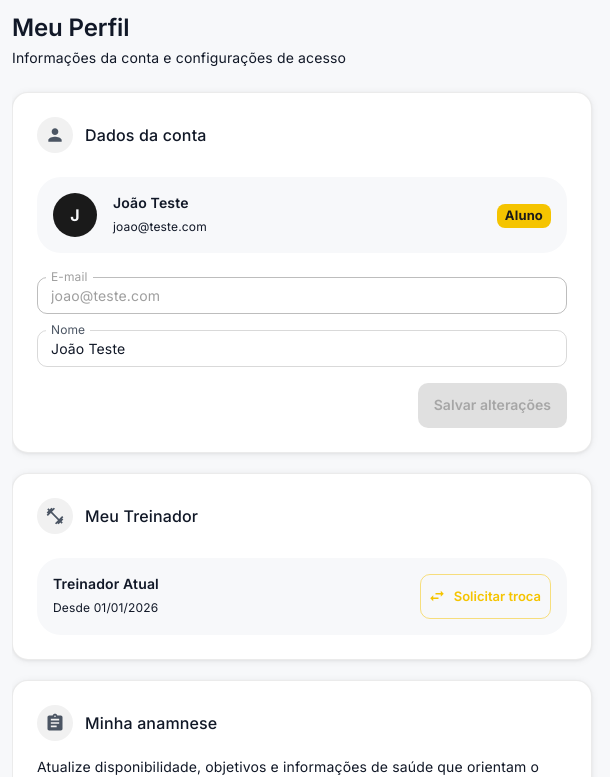
Test: /perfil — dados da conta › salvar perfil com erro exibe banner
The image size is (610, 777).
Replace the text in the field labelled "Nome" with "Falha" at x=302, y=349, box [37,330,567,367]
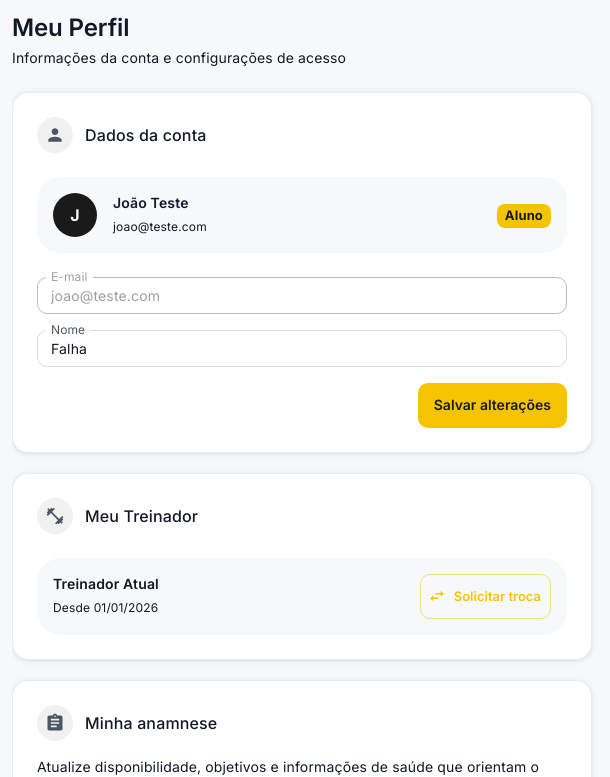
Click the button "Salvar alterações" at x=492, y=406, box [418,383,567,428]
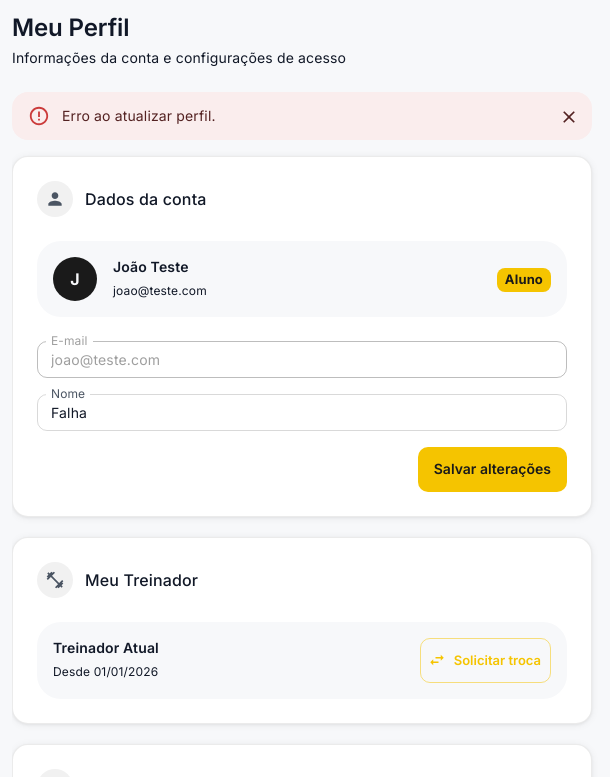
Expected: the text "Erro ao atualizar perfil." is shown, [62,107,216,124]
